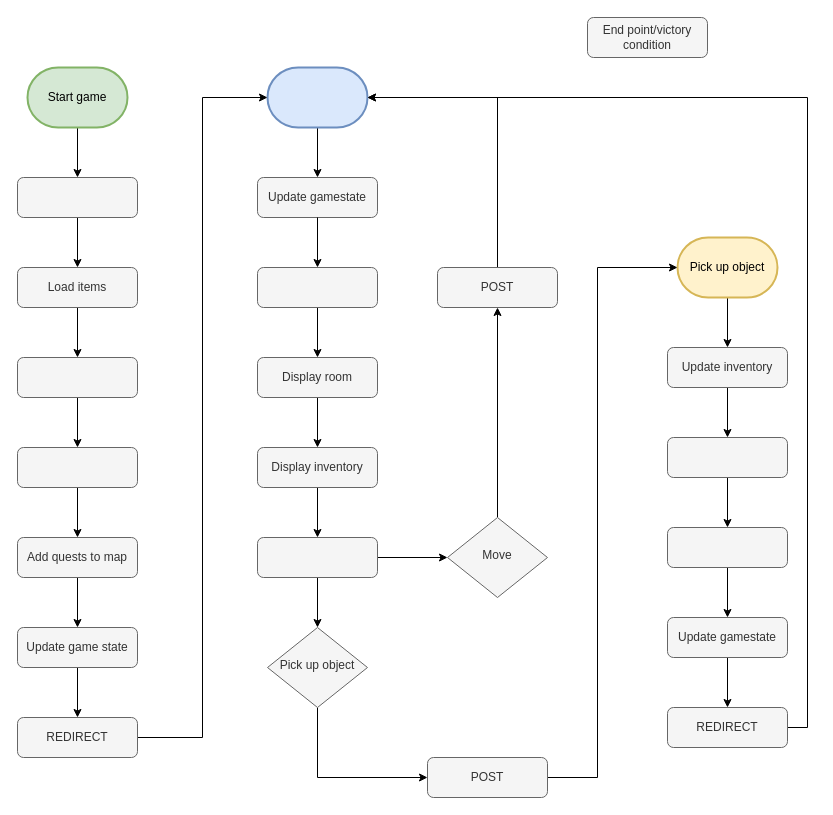
This 833x815 diagram has some shape labels left out. Here are the shapes that lost their labels. From the top down, the centre of each, then its label:
At point 317,97: "Enter room".
At point 77,197: "Load rooms".
At point 317,287: "RENDER".
At point 77,377: "Generate map".
At point 77,467: "Load quests".
At point 727,457: "Update room".
At point 317,557: "Display options".
At point 727,547: "Update quests".
